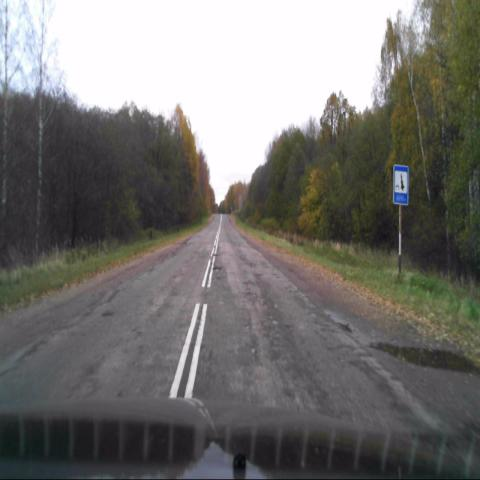7_11: (392, 164, 410, 208)
